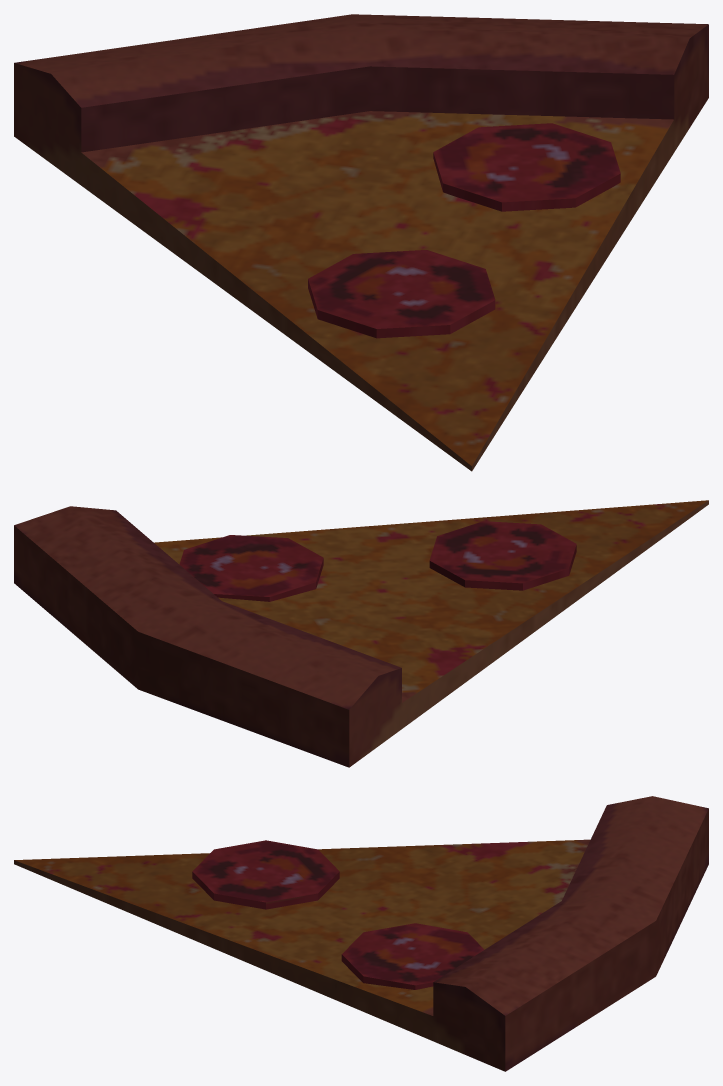
Rendered from Pizza_Burnt 1.fbx.
3 views of the same model, one above another, from view 1: azimuth 30°, elevation 25°; view 2: azimuth 150°, elevation 25°; view 3: azimuth 270°, elevation 25° (orthographic). The views are drawn at different scales.
Parts seen in each view (by area): view 1: Pizza_Burnt; view 2: Pizza_Burnt; view 3: Pizza_Burnt.
Part boxes in pixels (x1,y1,x2,y2): Pizza_Burnt: (14, 14, 708, 471); Pizza_Burnt: (14, 500, 708, 767); Pizza_Burnt: (14, 796, 708, 1071).
Bounding box in the file's own units: 52.64 × 8.05 × 74.44.
